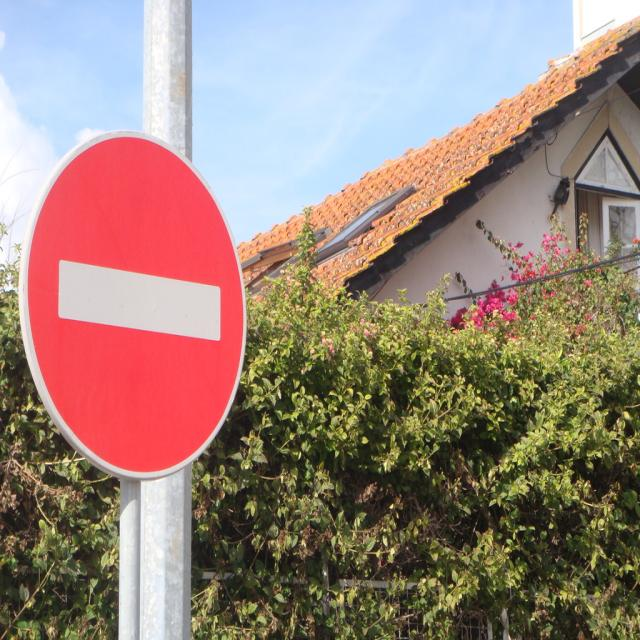Stop-sign: (19, 127, 250, 478)
